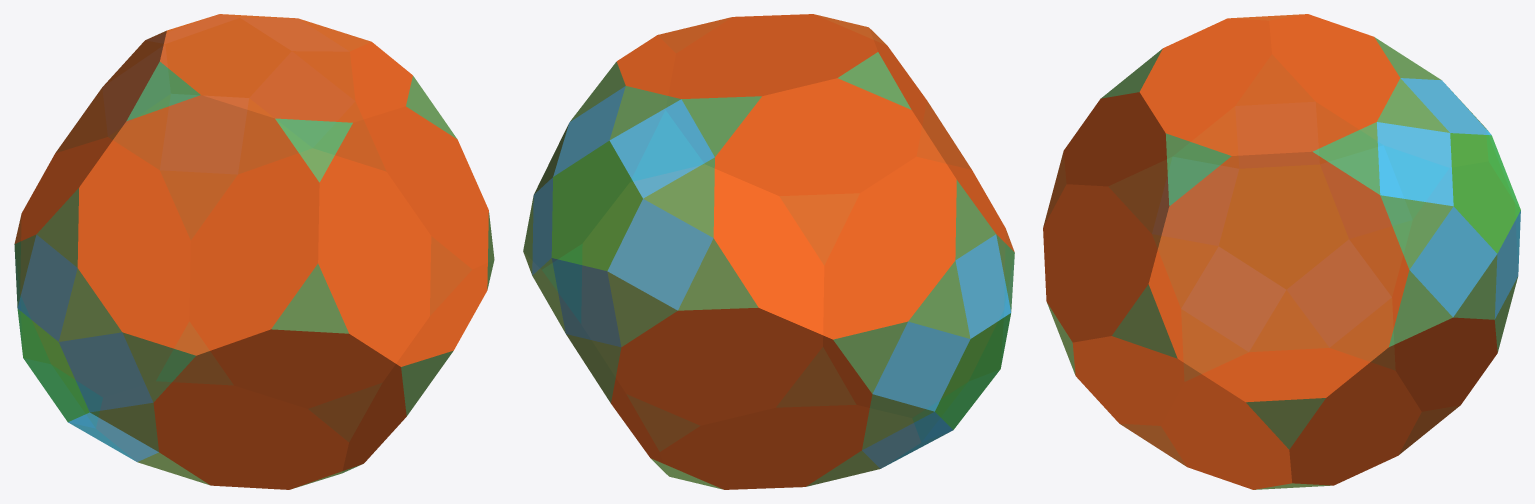
The model's file is j70_metabiaugmented_truncated_dodecahedron.obj.
3 views of the same model, side by side, from view 1: azimuth 30°, elevation 25°; view 2: azimuth 150°, elevation 25°; view 3: azimuth 270°, elevation 25° (orthographic). The views are drawn at different scales.
Size of the model in its own units: 1.99 by 1.82 by 1.98.
